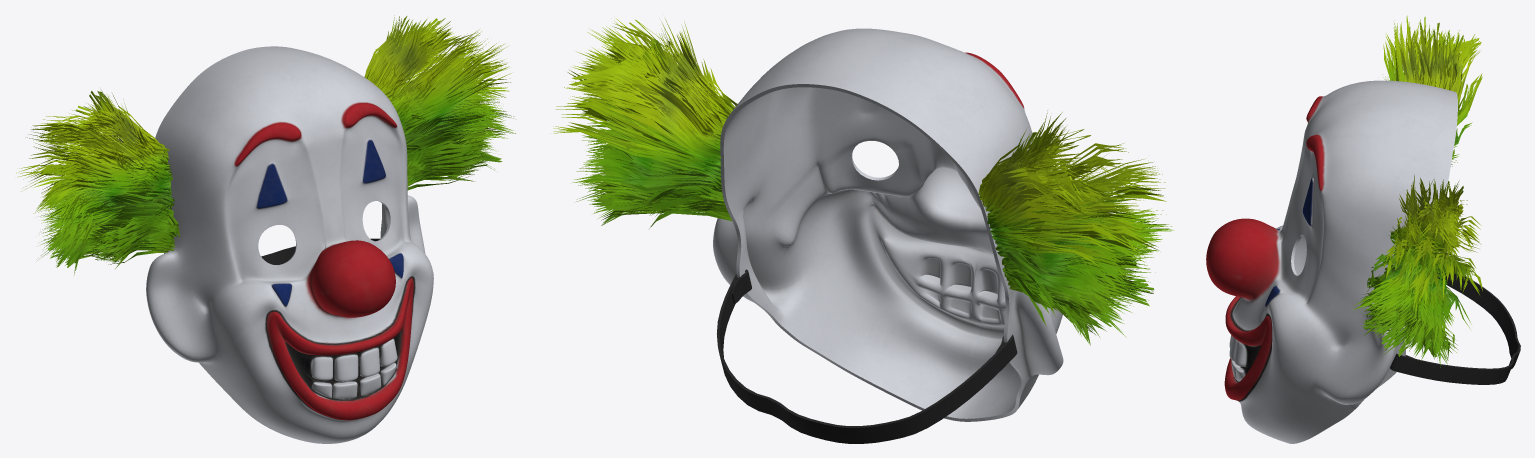
The model's file is waggis.glb.
3 renders of one model, left to right at view 1: azimuth 30°, elevation 25°; view 2: azimuth 150°, elevation 25°; view 3: azimuth 270°, elevation 25°, orthographic. The views are drawn at different scales.
Visible parts, largest first — view 1: Object_5, Object_6, Object_3, Object_4; view 2: Object_5, Object_4, Object_3, Object_6; view 3: Object_5, Object_6, Object_4, Object_3.
Boxes of the visible parts, <box> form: Object_5: <box>32,18,513,443</box>; Object_6: <box>31,16,511,430</box>; Object_3: <box>16,92,179,274</box>; Object_4: <box>34,19,515,270</box>; Object_5: <box>553,17,1168,443</box>; Object_4: <box>550,18,1172,333</box>; Object_3: <box>978,112,1173,345</box>; Object_6: <box>580,26,1171,363</box>; Object_5: <box>1206,29,1520,438</box>; Object_6: <box>1226,23,1473,443</box>; Object_4: <box>1355,19,1480,367</box>; Object_3: <box>1383,15,1482,166</box>.
Size of the model in its own units: 2.37 by 1.61 by 1.35.
Materials: 1 (1 with a texture image).
